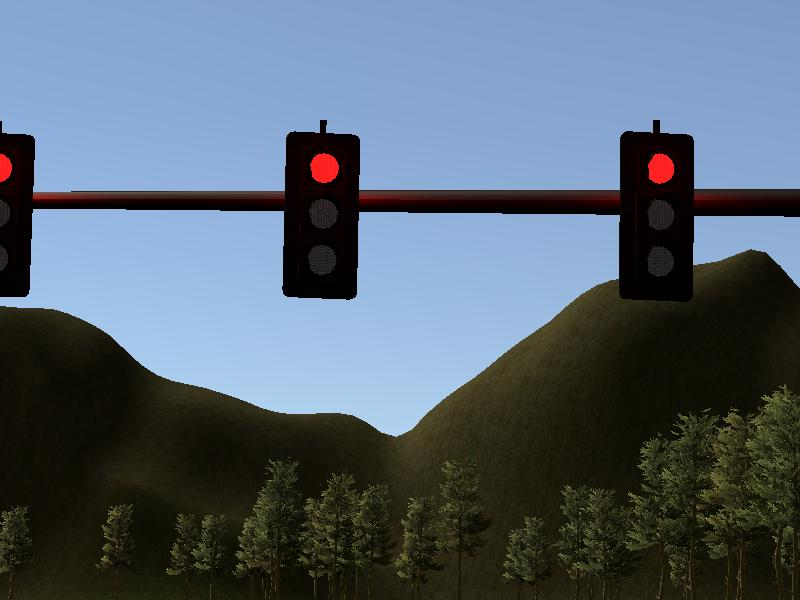Red: (285, 131, 358, 297), (622, 131, 691, 300), (1, 136, 33, 295)
